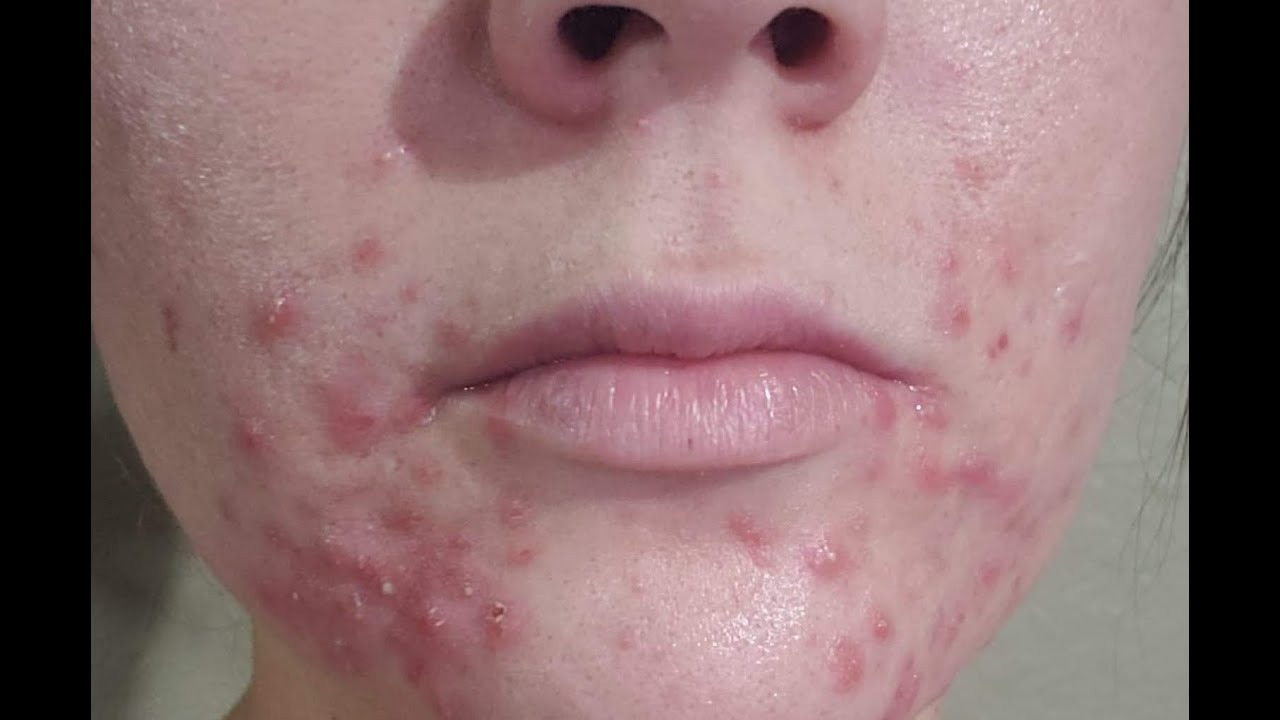Acne: (108, 253, 1085, 698)
